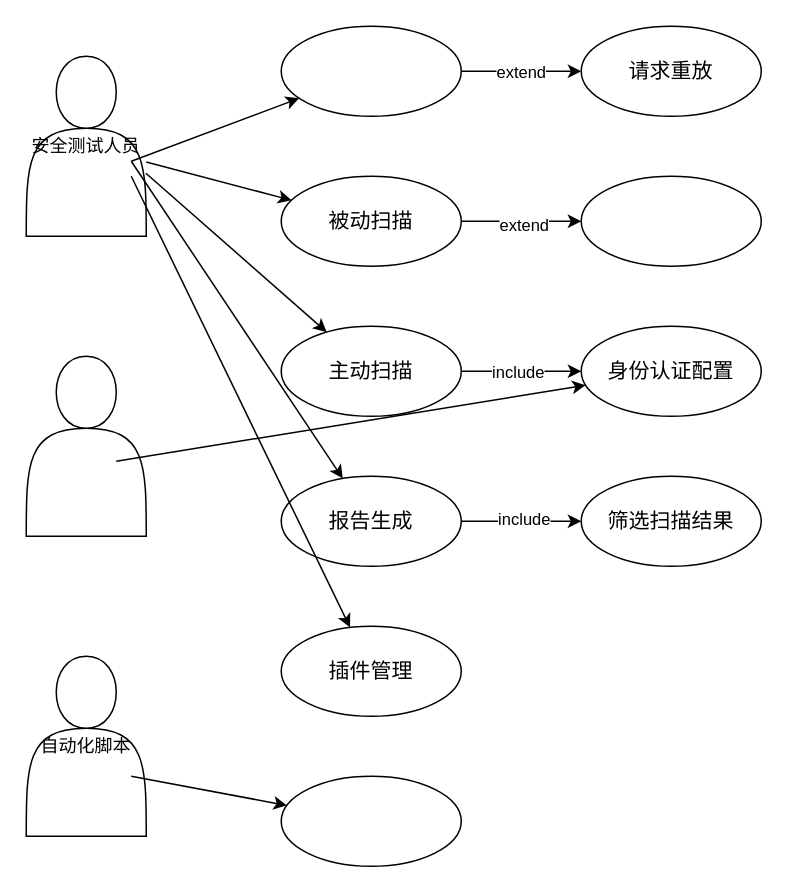
Some shapes in this 788 by 893 pixel diagram are drawn without their labels. Each missing label, with the centre of its shape:
"API 调用" belongs at point (370, 820).
"代理抓包" belongs at point (370, 70).
"漏洞详情查看" belongs at point (670, 220).
"系统管理员" belongs at point (85, 445).
